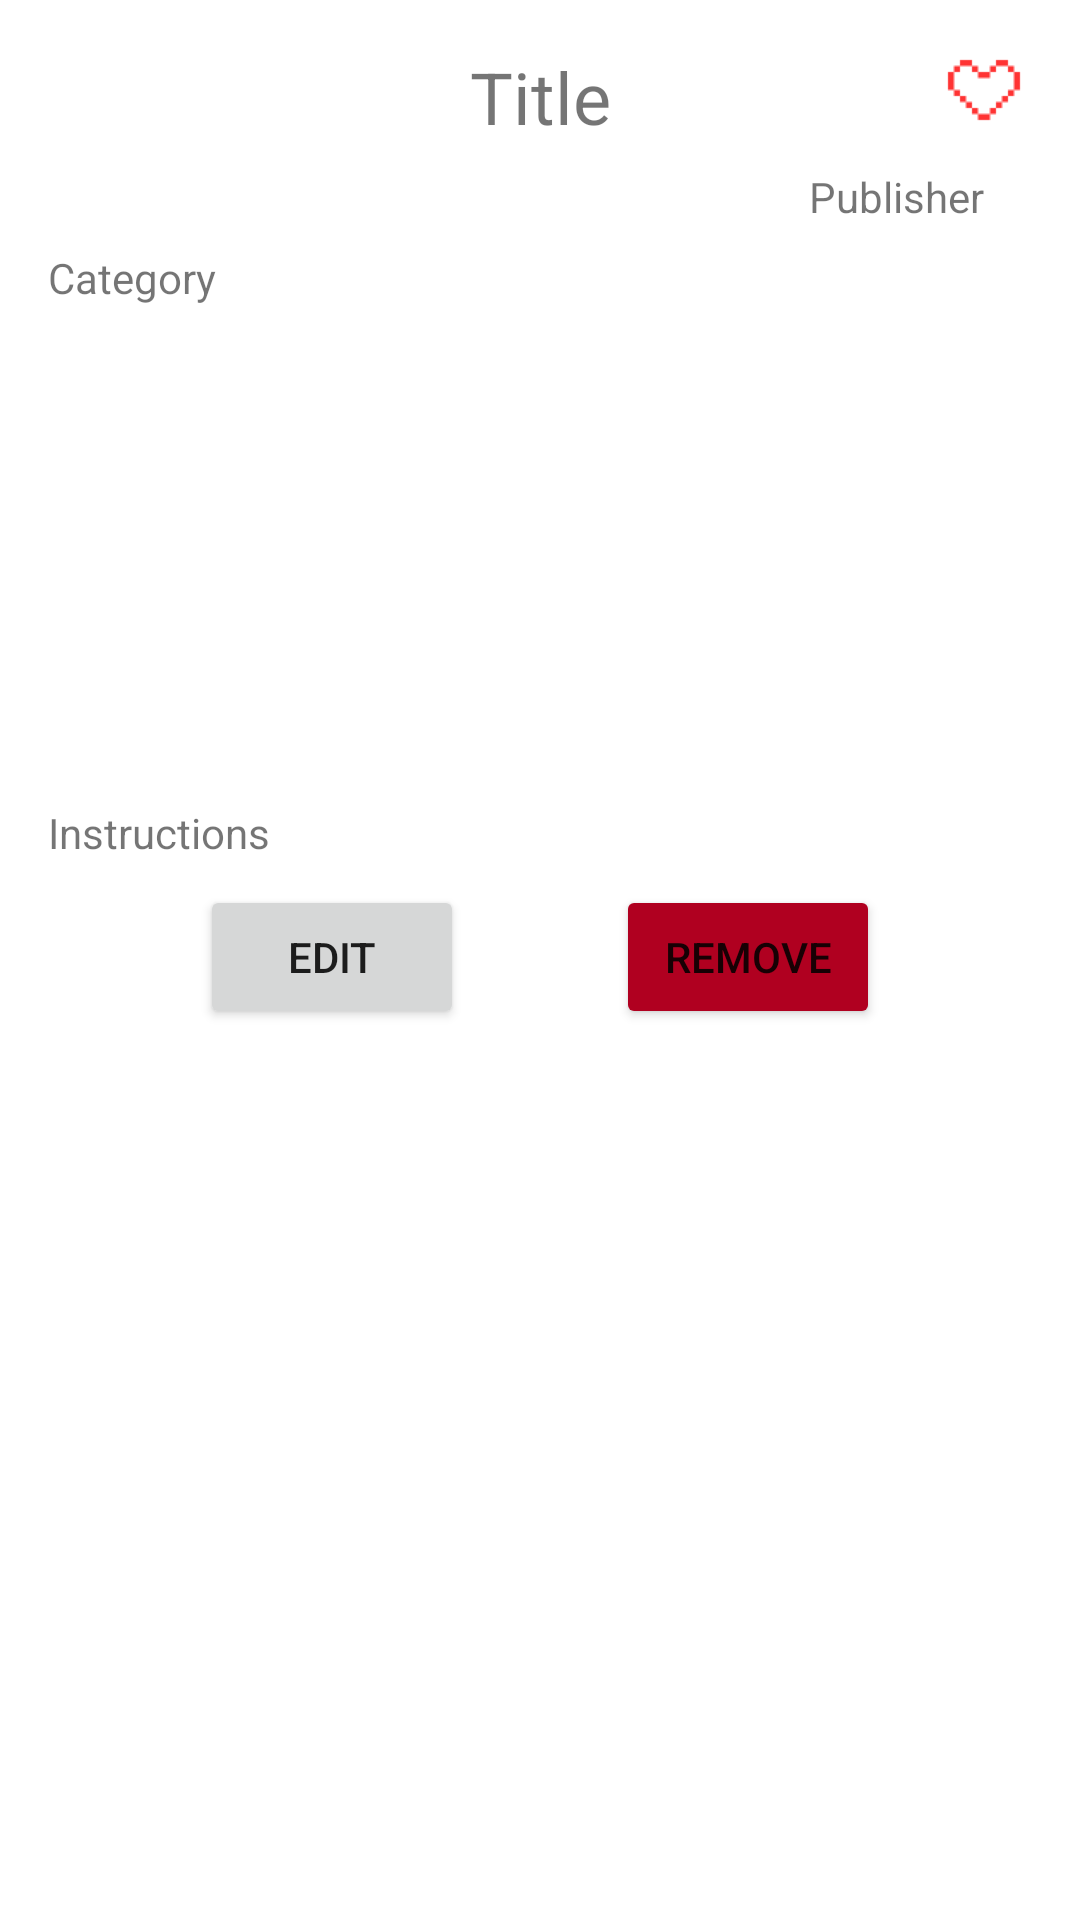

Locate icon controls on the screen. Image size 1080*1920, boxes as (x1, y1, x2, y2).
empty heart: (947, 59, 1021, 121)
